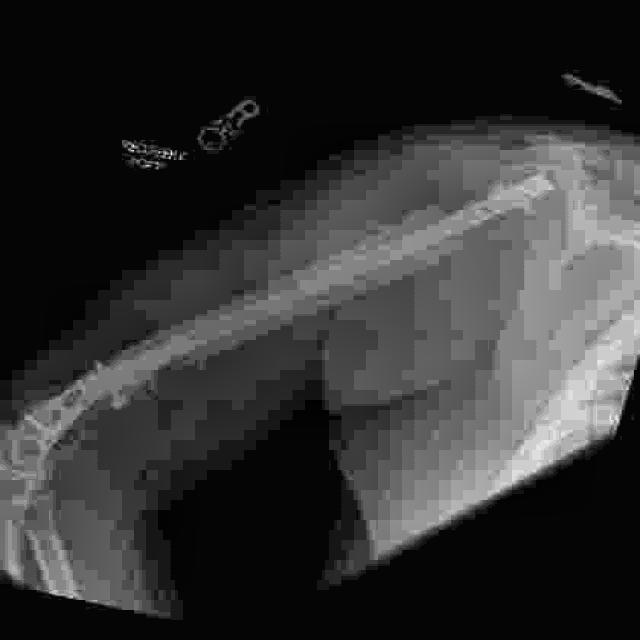humerus: (406, 160, 546, 272)
